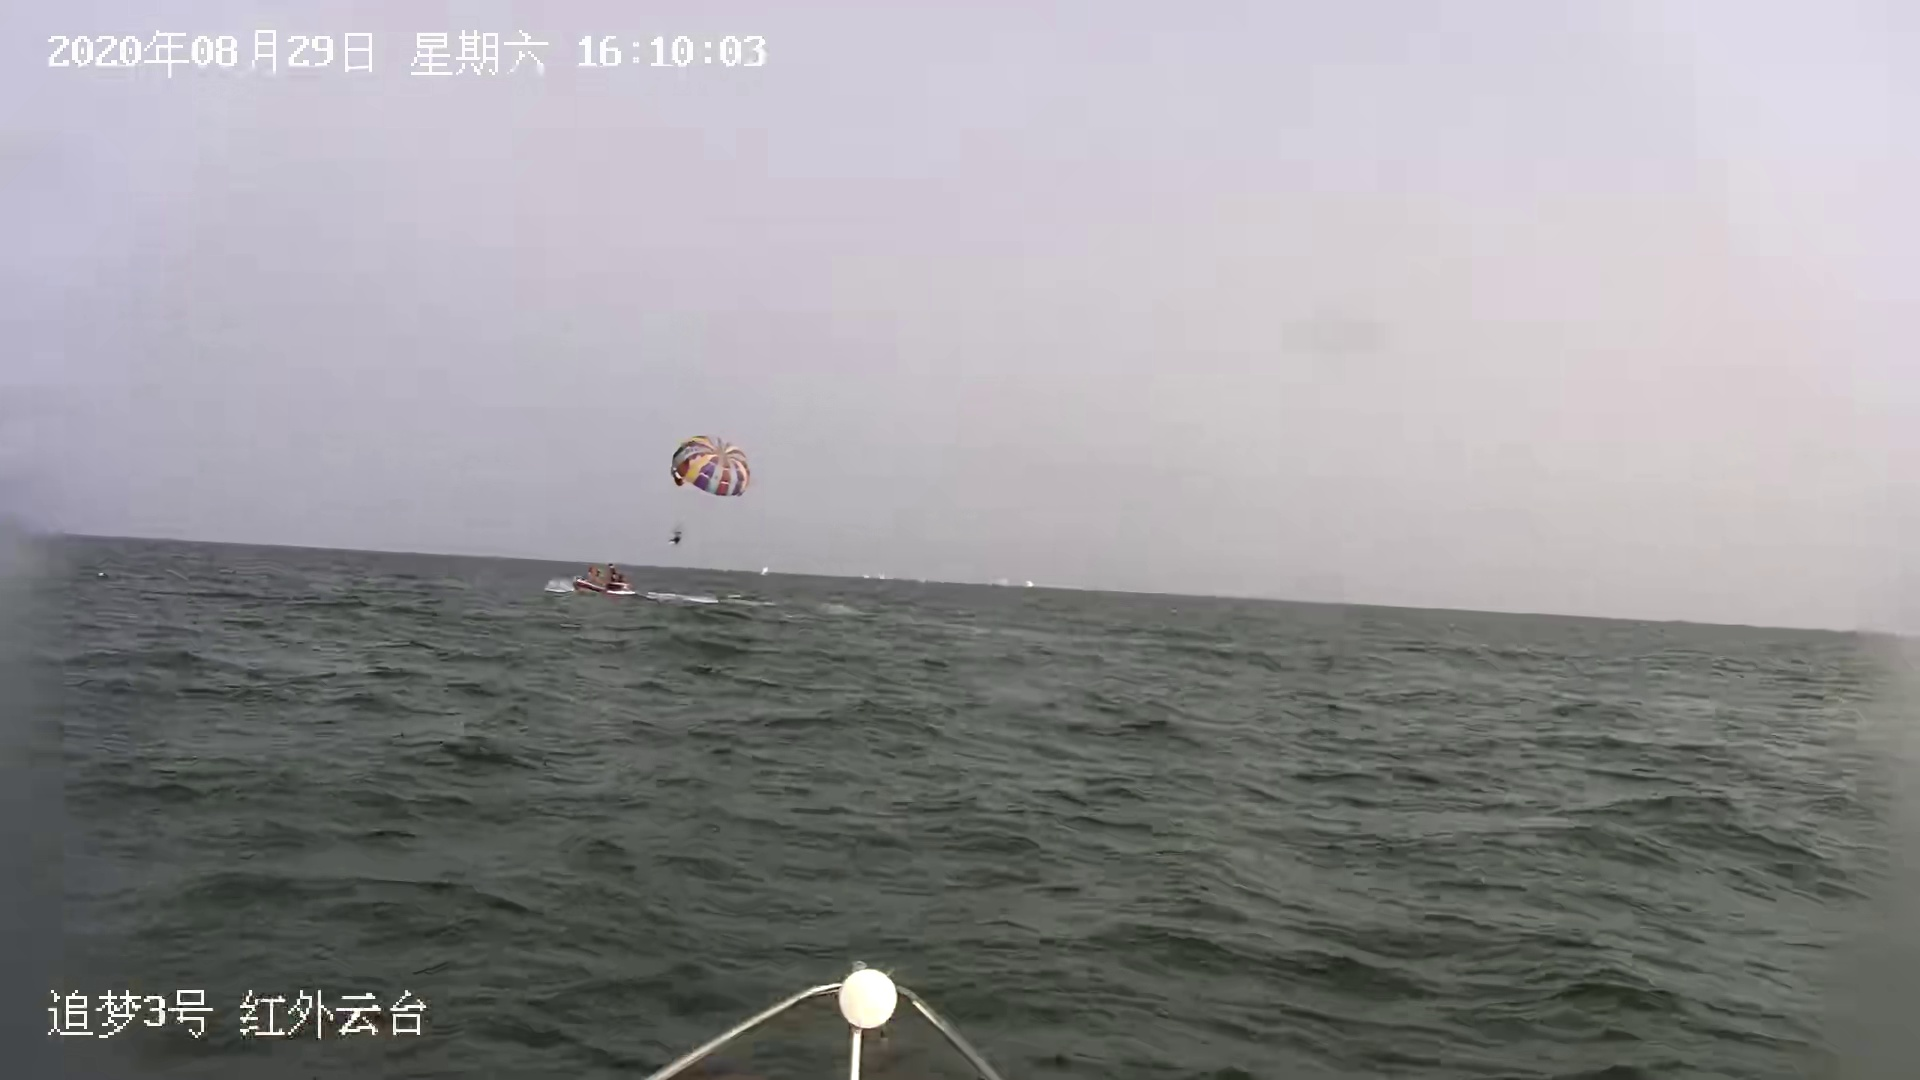barrier: (578, 559, 634, 597), (986, 576, 1014, 588), (916, 574, 928, 584), (760, 566, 769, 575), (880, 571, 887, 582), (862, 572, 869, 578), (1029, 578, 1033, 585)
